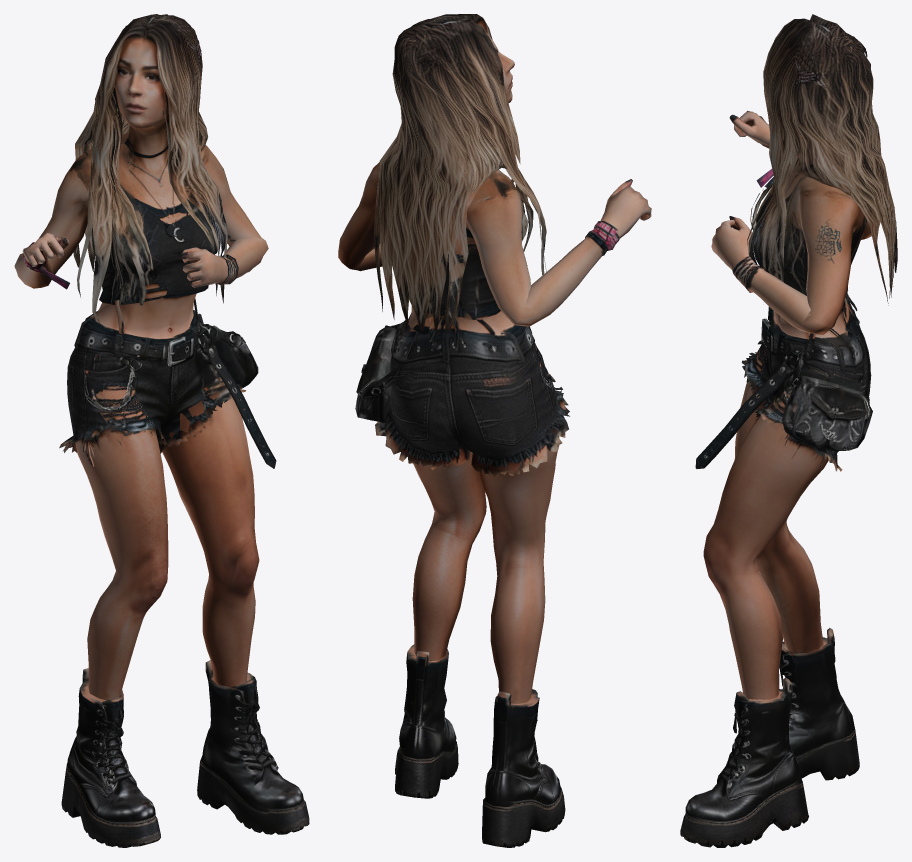
File: fan_04_static_pose_1k.glb
The picture shows the model from 3 angles, left to right: view 1: azimuth 30°, elevation 25°; view 2: azimuth 150°, elevation 25°; view 3: azimuth 270°, elevation 25°; orthographic projection. The views are drawn at different scales.
Visible parts, largest first — view 1: fan_04_baked_pose; view 2: fan_04_baked_pose; view 3: fan_04_baked_pose.
Boxes of the visible parts, x1,y1,x2,y2 form: fan_04_baked_pose: [14, 14, 309, 847]; fan_04_baked_pose: [338, 14, 651, 847]; fan_04_baked_pose: [680, 14, 897, 847].
Size of the model in its own units: 0.353 by 0.9835 by 0.2483.
1 material, 1 textured.
